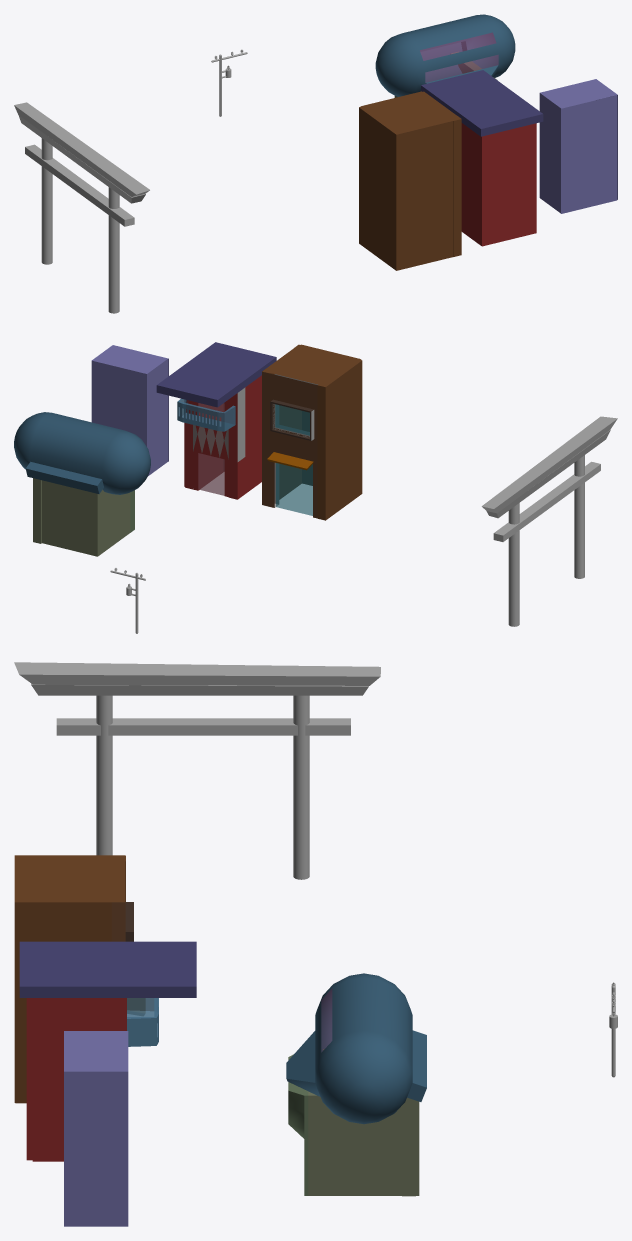
Rendered from bangunan bbrp.fbx.
3 renders of one model, top to bottom at view 1: azimuth 30°, elevation 25°; view 2: azimuth 150°, elevation 25°; view 3: azimuth 270°, elevation 25°, orthographic. The views are drawn at different scales.
Parts seen in each view (by area): view 1: bangunan_coba:pCylinder1, bangunan_coba:pasted__pCube1, bangunan_coba:pCube6, bangunan_coba:pCube4, aset_bangunan_1:pPlane17, bangunan_coba:pCube2, aset_bangunan_1:pCube5, aset_bangunan_1:pCube65, bangunan_coba:pPlane1, aset_bangunan_1:pCube63, bangunan_coba:pasted__pasted__pasted__pCube1, aset_bangunan_1:pCylinder19 (+3 smaller); view 2: bangunan_coba:pCylinder1, aset_bangunan_1:pCube5, bangunan_coba:pCube4, bangunan_coba:polySurface5, bangunan_coba:polySurface1, bangunan_coba:pCube2, bangunan_coba:pCube8, aset_bangunan_1:pCube65, bangunan_coba:pCube10, bangunan_coba:pPlane1, bangunan_coba:pasted__pasted__pasted__pCube1, bangunan_coba:polySurface4 (+9 smaller); view 3: bangunan_coba:pCylinder1, aset_bangunan_1:pCube5, bangunan_coba:pCube2, bangunan_coba:pCube9, aset_bangunan_1:pCube65, bangunan_coba:pPlane1, aset_bangunan_1:pCube63, bangunan_coba:pCube5, bangunan_coba:pasted__pCube1, bangunan_coba:pasted__pasted__pCube1, aset_bangunan_1:pCube64, aset_bangunan_1:pCylinder19 (+6 smaller).
Boxes of the visible parts, <box> form: bangunan_coba:pCylinder1: <box>375,14,515,96</box>; bangunan_coba:pasted__pCube1: <box>474,123,536,246</box>; bangunan_coba:pCube6: <box>392,115,459,268</box>; bangunan_coba:pCube4: <box>359,107,404,270</box>; aset_bangunan_1:pPlane17: <box>561,95,617,213</box>; bangunan_coba:pCube2: <box>421,70,543,136</box>; aset_bangunan_1:pCube5: <box>539,79,617,213</box>; aset_bangunan_1:pCube65: <box>14,102,149,196</box>; bangunan_coba:pPlane1: <box>360,91,458,133</box>; aset_bangunan_1:pCube63: <box>25,144,134,226</box>; bangunan_coba:pasted__pasted__pasted__pCube1: <box>461,123,474,240</box>; aset_bangunan_1:pCylinder19: <box>41,138,52,264</box>; bangunan_coba:pCylinder1: <box>14,412,150,494</box>; aset_bangunan_1:pCube5: <box>91,345,168,475</box>; bangunan_coba:pCube4: <box>317,360,362,520</box>; bangunan_coba:polySurface5: <box>262,370,317,518</box>; bangunan_coba:polySurface1: <box>177,387,245,499</box>; bangunan_coba:pCube2: <box>156,342,276,407</box>; bangunan_coba:pCube8: <box>42,480,89,554</box>; aset_bangunan_1:pCube65: <box>481,416,617,513</box>; bangunan_coba:pCube10: <box>89,489,130,556</box>; bangunan_coba:pPlane1: <box>264,344,361,385</box>; bangunan_coba:pasted__pasted__pasted__pCube1: <box>224,375,261,496</box>; bangunan_coba:polySurface4: <box>276,463,312,515</box>; bangunan_coba:pCylinder1: <box>286,973,426,1124</box>; aset_bangunan_1:pCube5: <box>64,1031,128,1226</box>; bangunan_coba:pCube2: <box>19,941,196,997</box>; bangunan_coba:pCube9: <box>308,1091,419,1195</box>; aset_bangunan_1:pCube65: <box>14,662,380,685</box>; bangunan_coba:pPlane1: <box>14,855,125,899</box>; aset_bangunan_1:pCube63: <box>56,718,350,735</box>; bangunan_coba:pCube5: <box>14,899,125,1102</box>; bangunan_coba:pasted__pCube1: <box>26,998,49,1160</box>; bangunan_coba:pasted__pasted__pCube1: <box>32,998,103,1161</box>; aset_bangunan_1:pCube64: <box>31,683,368,695</box>; aset_bangunan_1:pCylinder19: <box>293,695,309,879</box>.
Size of the model in its own units: 61.31 by 16.64 by 43.63.
